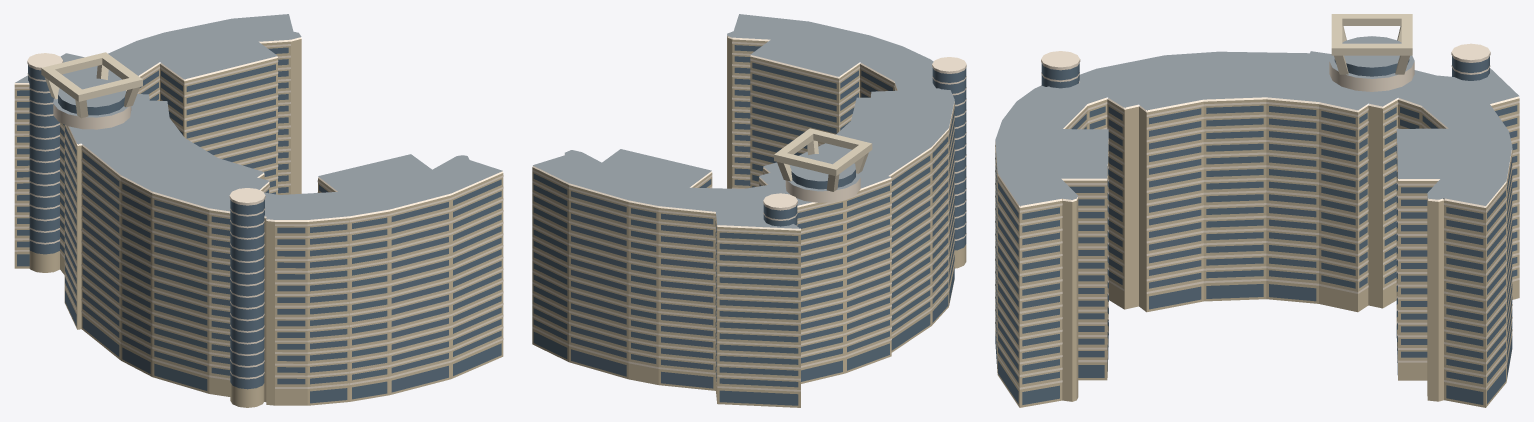
File: wdw-bay-lake-tower.glb
3 views of the same model, side by side, from view 1: azimuth 30°, elevation 25°; view 2: azimuth 150°, elevation 25°; view 3: azimuth 270°, elevation 25° (orthographic). The views are drawn at different scales.
Parts seen in each view (by area): view 1: Bay Lake Tower; view 2: Bay Lake Tower; view 3: Bay Lake Tower.
Boxes of the visible parts, x1,y1,x2,y2 form: Bay Lake Tower: (14,14,503,407); Bay Lake Tower: (532,14,966,407); Bay Lake Tower: (995,14,1519,407).
Bounding box in the file's own units: 81.61 × 60 × 117.
